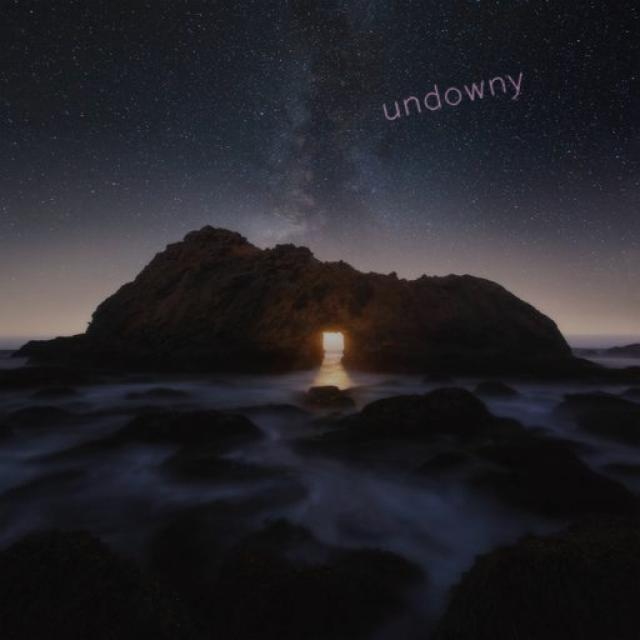watermark: (374, 60, 526, 126)
